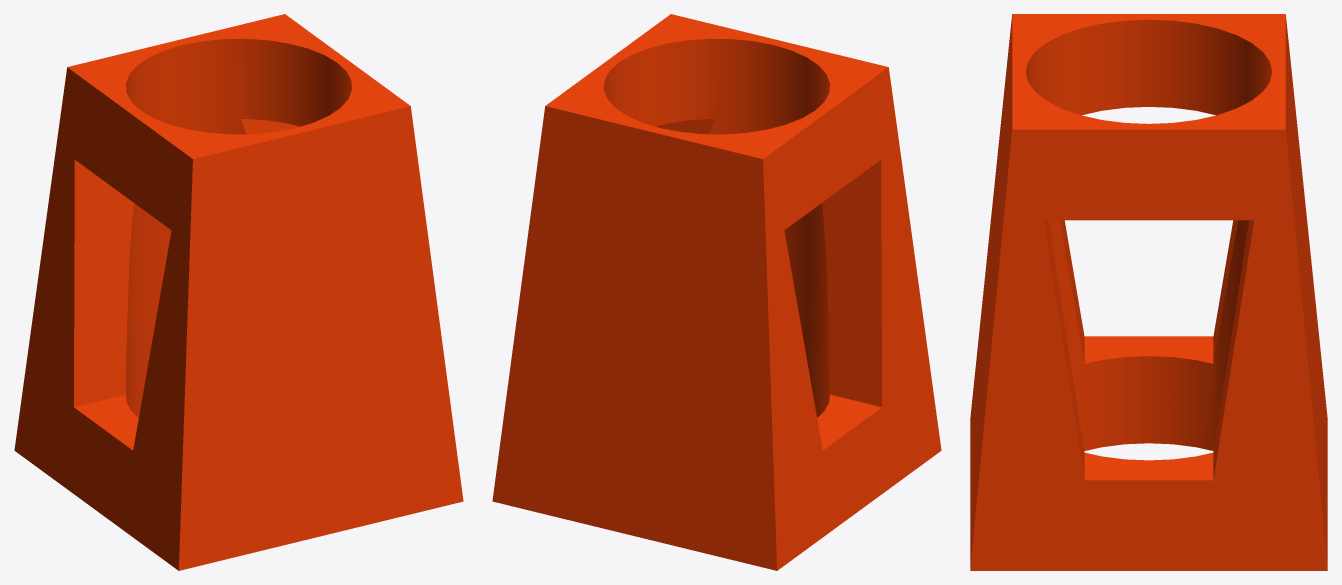
Rendered from var_12.glb.
The picture shows the model from 3 angles, left to right: view 1: azimuth 30°, elevation 25°; view 2: azimuth 150°, elevation 25°; view 3: azimuth 270°, elevation 25°; orthographic projection. The views are drawn at different scales.
Visible parts, largest first — view 1: Cube.005; view 2: Cube.005; view 3: Cube.005.
Part boxes in pixels (x1,y1,x2,y2): Cube.005: [14, 14, 463, 570]; Cube.005: [492, 14, 941, 570]; Cube.005: [970, 14, 1327, 570].
Bounding box in the file's own units: 1.53 × 2 × 1.53.
